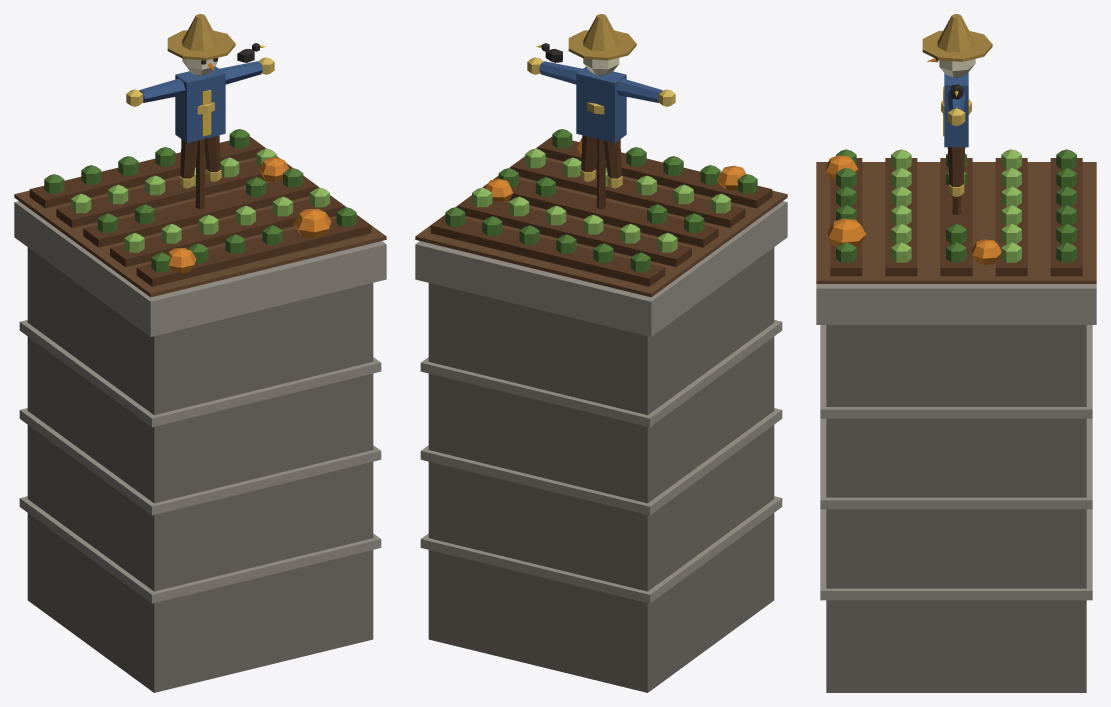
Rendered from decor_scarecrow.glb.
3 views of the same model, side by side, from view 1: azimuth 30°, elevation 25°; view 2: azimuth 150°, elevation 25°; view 3: azimuth 270°, elevation 25° (orthographic). The views are drawn at different scales.
Parts seen in each view (by area): view 1: decor_scarecrow; view 2: decor_scarecrow; view 3: decor_scarecrow.
Boxes of the visible parts, box(x1,y1,x2,y2) form: decor_scarecrow: box(14, 14, 386, 692); decor_scarecrow: box(415, 14, 787, 692); decor_scarecrow: box(816, 14, 1096, 692).
Bounding box in the file's own units: 2.8 × 6.85 × 2.8.
